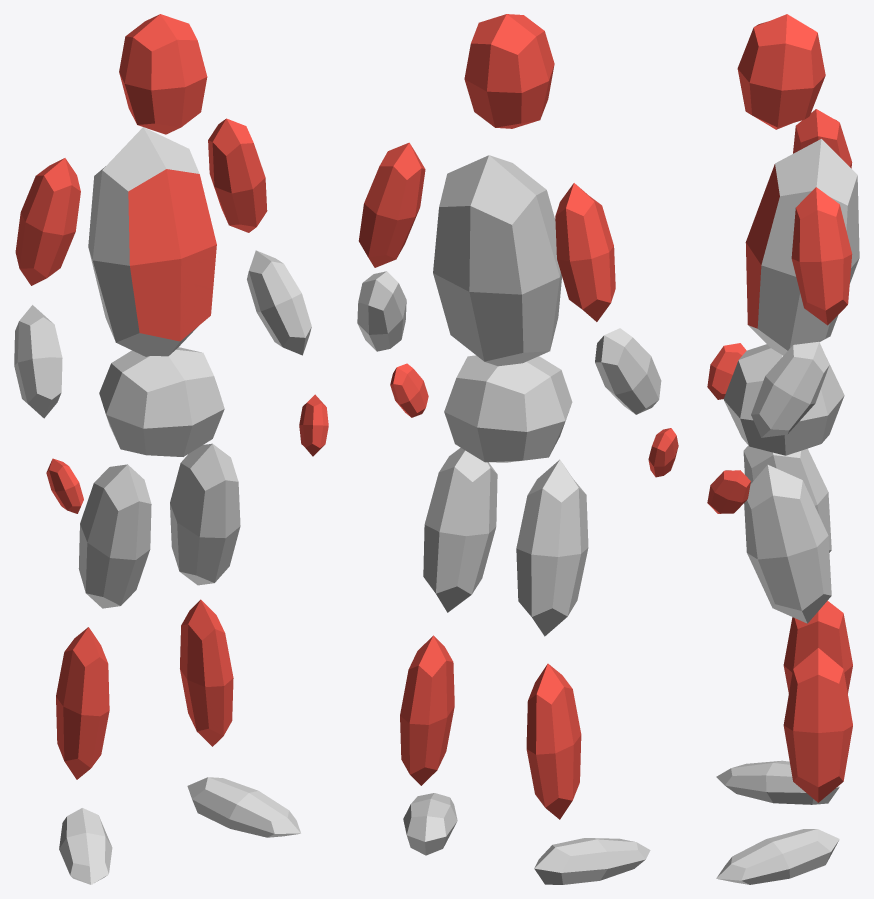
Rendered from dummymdl.gltf.
3 renders of one model, left to right at view 1: azimuth 30°, elevation 25°; view 2: azimuth 150°, elevation 25°; view 3: azimuth 270°, elevation 25°, orthographic. The views are drawn at different scales.
Parts seen in each view (by area): view 1: MaleDummy; view 2: MaleDummy; view 3: MaleDummy.
Boxes of the visible parts, left/top/right/bottom form: MaleDummy: left=14, top=14, right=328, bottom=884; MaleDummy: left=357, top=14, right=678, bottom=884; MaleDummy: left=707, top=14, right=859, bottom=884.
Bounding box in the file's own units: 1.41 × 3.97 × 0.6651.
